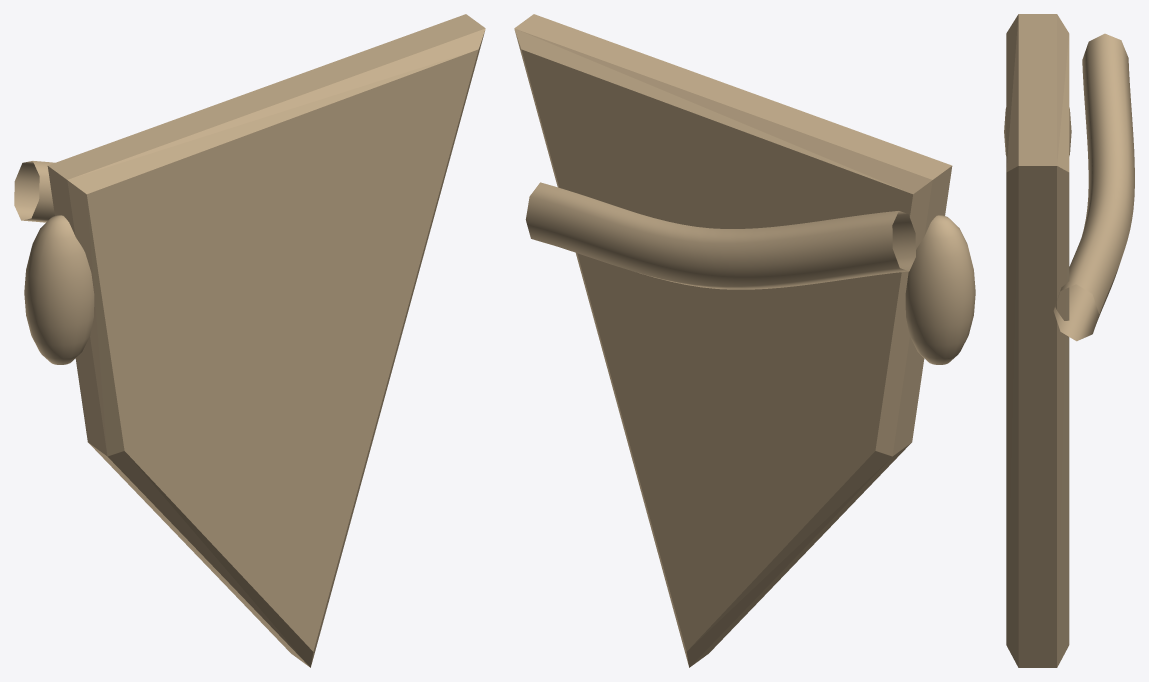
File: right_scapula.glb
3 renders of one model, left to right at view 1: azimuth 30°, elevation 25°; view 2: azimuth 150°, elevation 25°; view 3: azimuth 270°, elevation 25°, orthographic.
Parts seen in each view (by area): view 1: right_scapula:blade, right_scapula:glenoid, right_scapula:spine; view 2: right_scapula:blade, right_scapula:spine, right_scapula:glenoid; view 3: right_scapula:blade, right_scapula:spine, right_scapula:glenoid.
Boxes of the visible parts, x1=… form: right_scapula:blade: x1=47, y1=14, x2=485, y2=667; right_scapula:glenoid: x1=24, y1=215, x2=94, y2=364; right_scapula:spine: x1=14, y1=161, x2=54, y2=222; right_scapula:blade: x1=514, y1=14, x2=952, y2=667; right_scapula:spine: x1=525, y1=182, x2=915, y2=289; right_scapula:glenoid: x1=905, y1=215, x2=975, y2=364; right_scapula:blade: x1=1006, y1=14, x2=1069, y2=667; right_scapula:spine: x1=1053, y1=33, x2=1134, y2=341; right_scapula:glenoid: x1=1004, y1=107, x2=1071, y2=155.
Size of the model in its own units: 0.2666 by 0.3397 by 0.0688.
